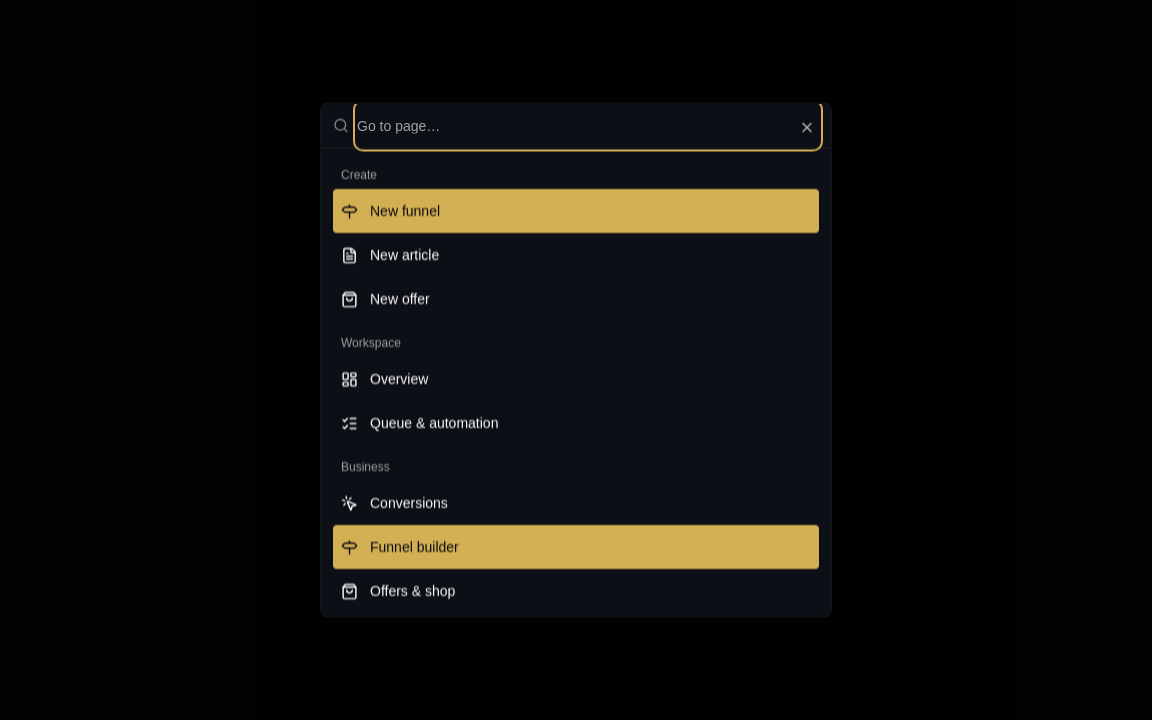
Test: admin command navigation › Enter on niche opens the highlighted best match /admin/niches
Later steps or results of the test are not shown.
Type "niche" into the dropdown at (588, 126), box [357, 104, 819, 148]
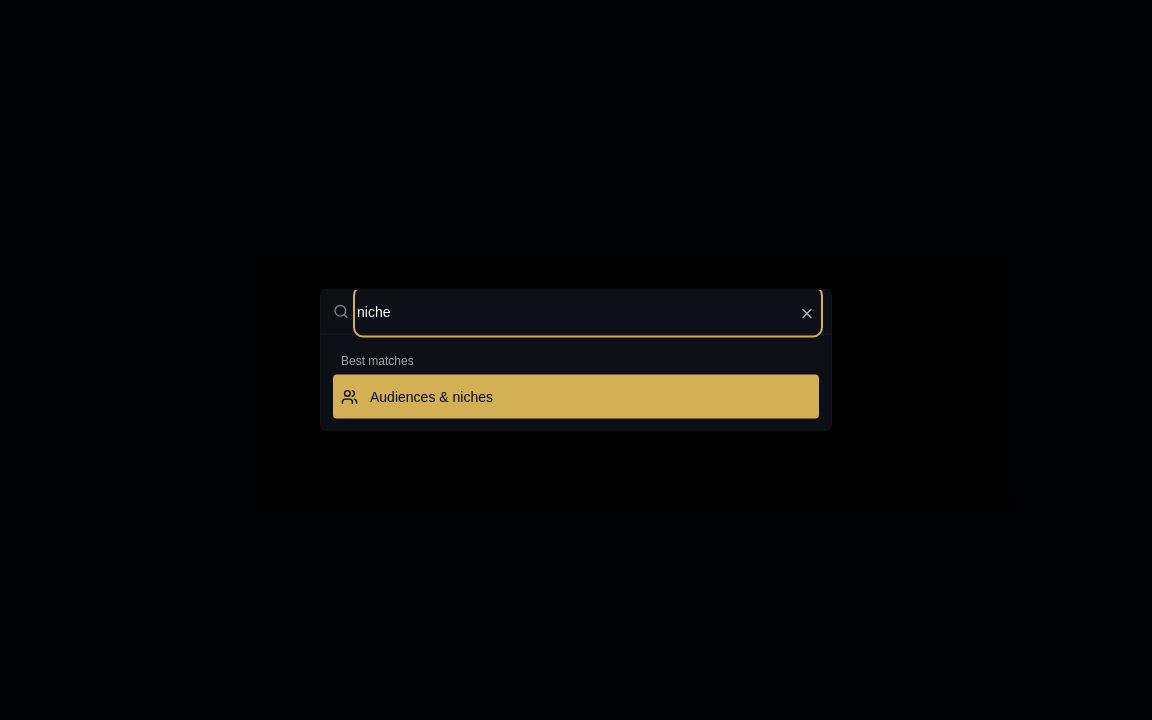
Now the option "Audiences & niches" is shown, box [333, 374, 819, 418]
